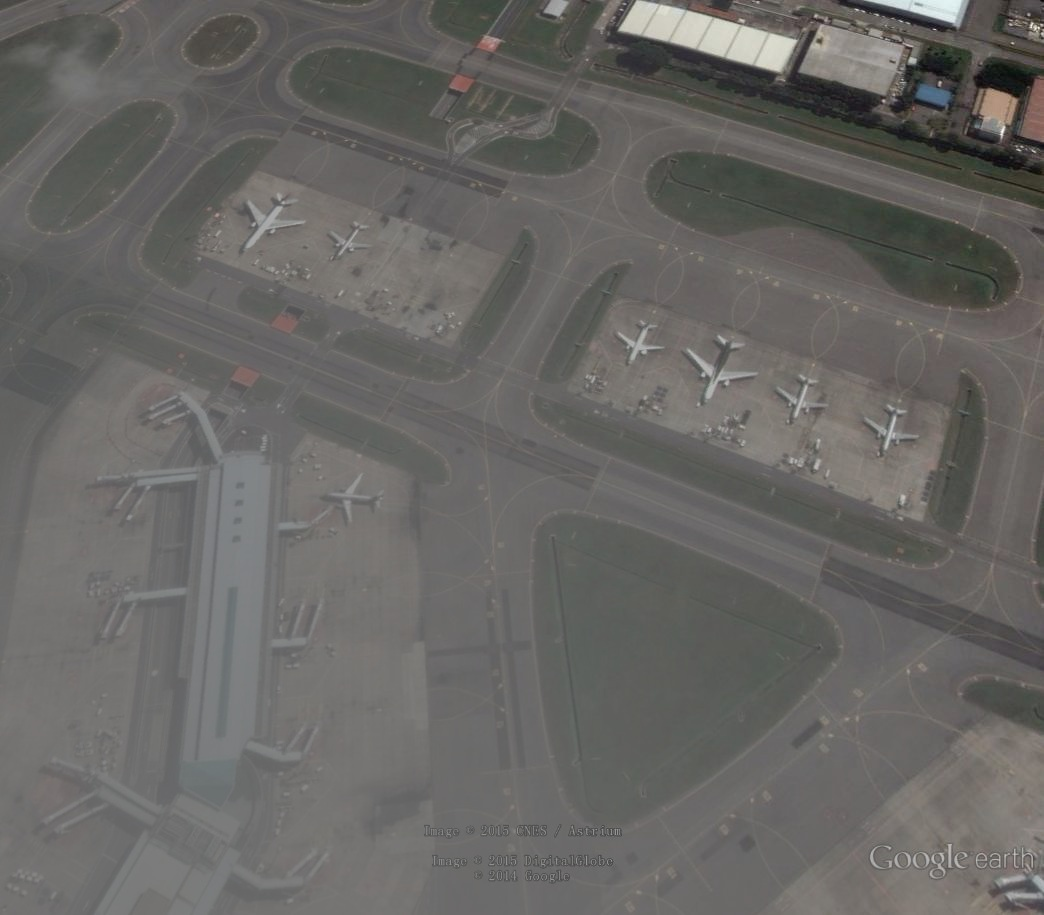aircraft: (681, 331, 762, 406), (238, 189, 312, 256), (318, 472, 387, 528), (859, 400, 922, 459), (769, 372, 832, 427), (612, 319, 670, 369), (327, 217, 378, 264)
